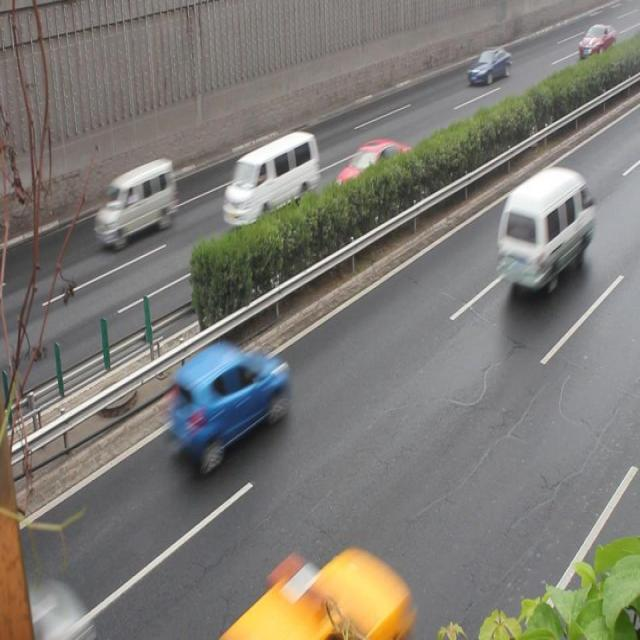bus: (222, 550, 398, 640)
car: (170, 343, 288, 470), (332, 137, 408, 211), (466, 47, 508, 86)
truck: (495, 165, 593, 290), (222, 132, 320, 231), (95, 160, 176, 247)
